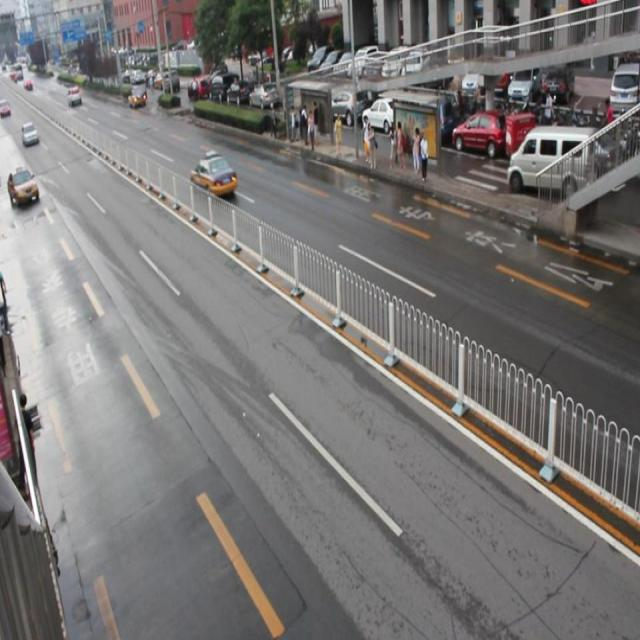car: (188, 150, 237, 198), (1, 166, 39, 204)
